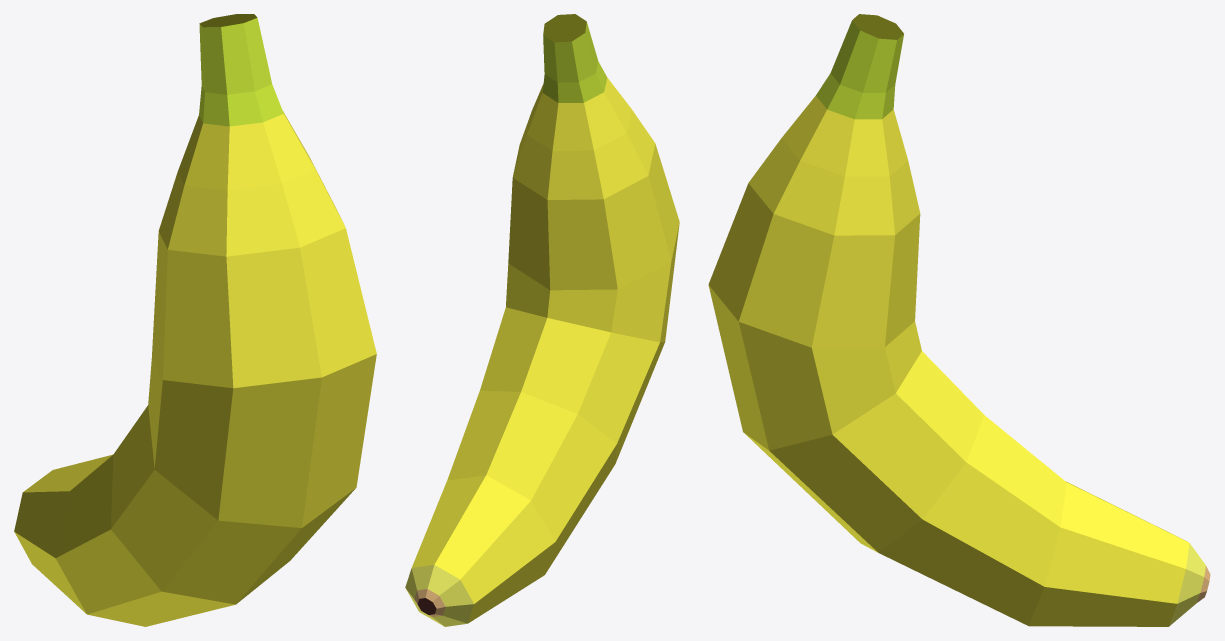
The model's file is banana_0.fbx.
3 renders of one model, left to right at view 1: azimuth 30°, elevation 25°; view 2: azimuth 150°, elevation 25°; view 3: azimuth 270°, elevation 25°, orthographic. The views are drawn at different scales.
Parts seen in each view (by area): view 1: banana_0; view 2: banana_0; view 3: banana_0.
Boxes of the visible parts, bbox=[...] form: banana_0: bbox=[14, 14, 376, 626]; banana_0: bbox=[405, 14, 679, 626]; banana_0: bbox=[708, 14, 1210, 626].
Bounding box in the file's own units: 76.96 × 245 × 184.
